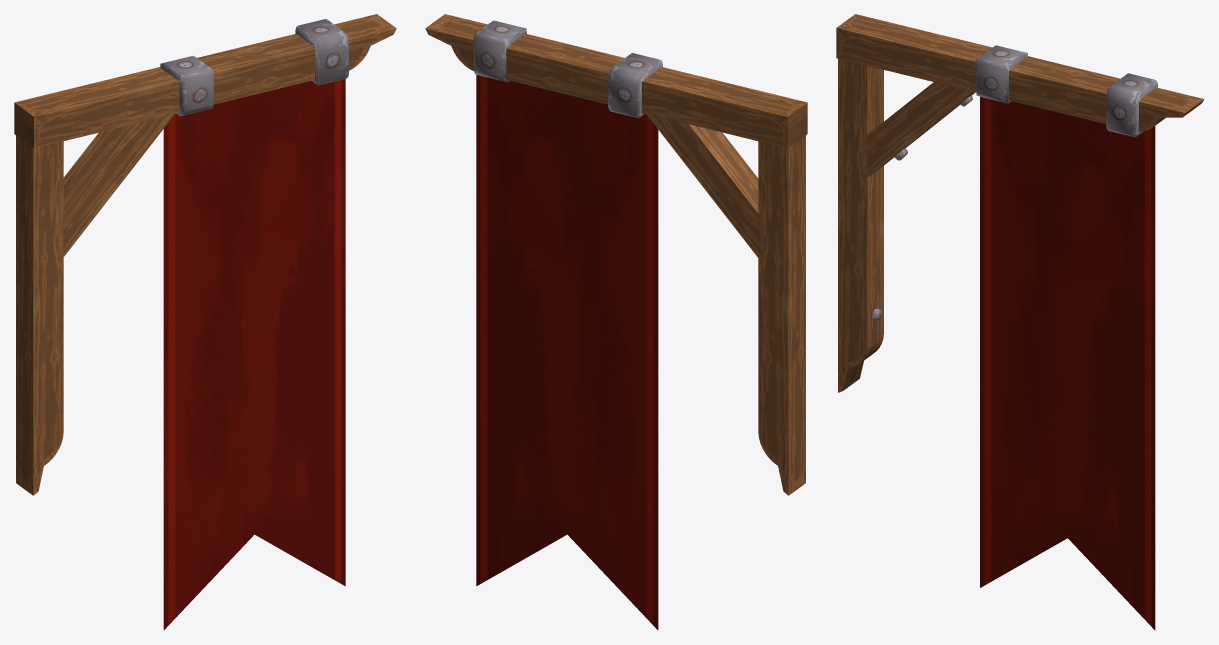
The model's file is Banner_1.gltf.
3 views of the same model, side by side, from view 1: azimuth 30°, elevation 25°; view 2: azimuth 150°, elevation 25°; view 3: azimuth 330°, elevation 25° (orthographic). The views are drawn at different scales.
Visible parts, largest first — view 1: Banner_1; view 2: Banner_1; view 3: Banner_1.
Part boxes in pixels (x1,y1,x2,y2): Banner_1: [14, 14, 396, 630]; Banner_1: [425, 14, 807, 630]; Banner_1: [836, 14, 1204, 630].
Size of the model in its own units: 1.61 by 2.39 by 0.1906.
3 materials, 3 textured.
